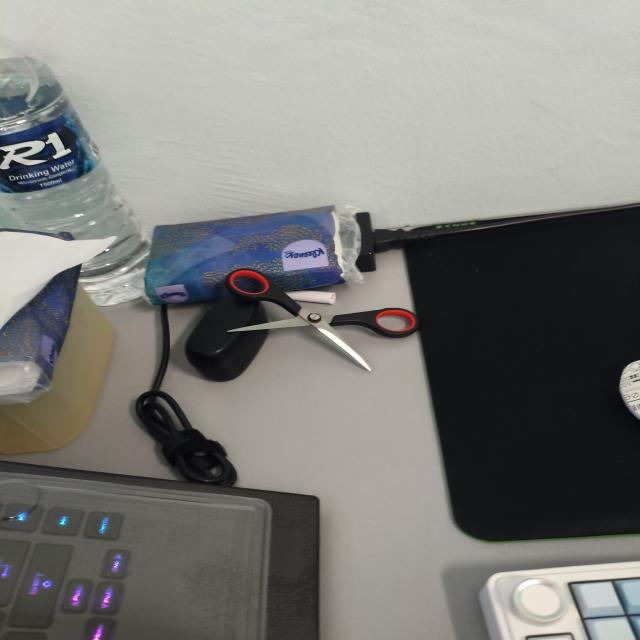scissor: (225, 267, 419, 371)
